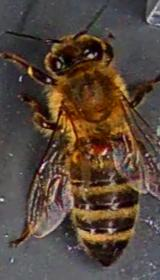varroa_mite: (82, 136, 114, 158)
